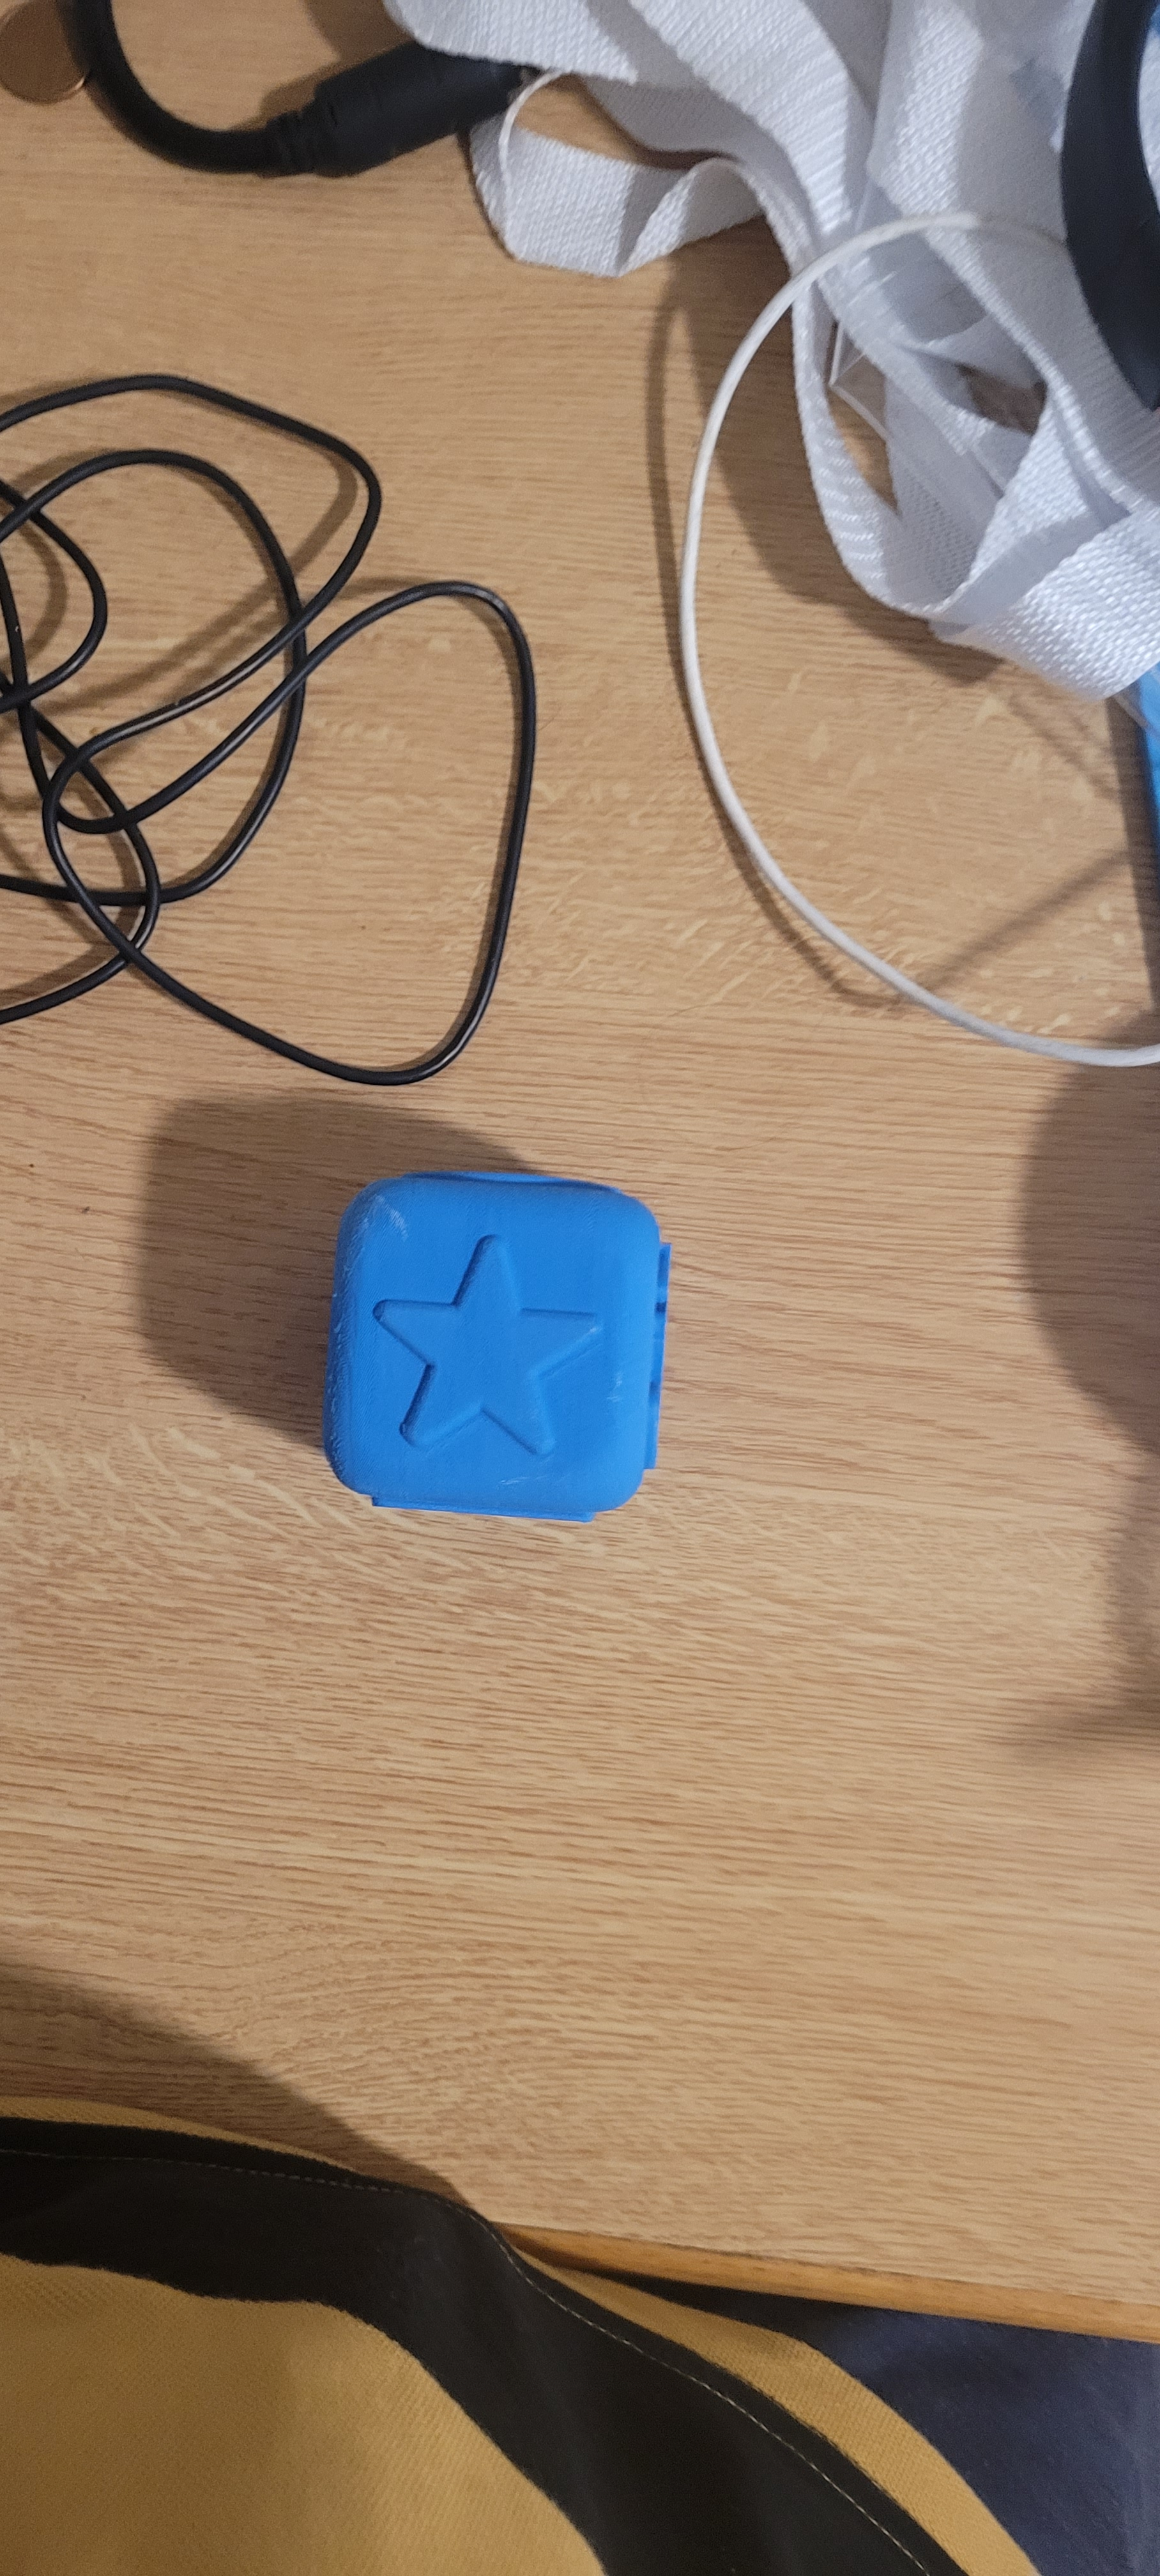Star: (350, 1181, 615, 1503)
